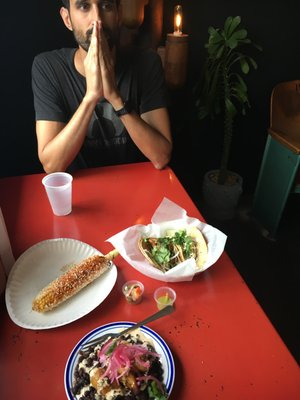pizza: (202, 169, 244, 222), (41, 172, 73, 217)
salad: (91, 304, 176, 354)
soup: (32, 252, 118, 313), (137, 220, 209, 274)
sushi: (65, 324, 175, 400)
